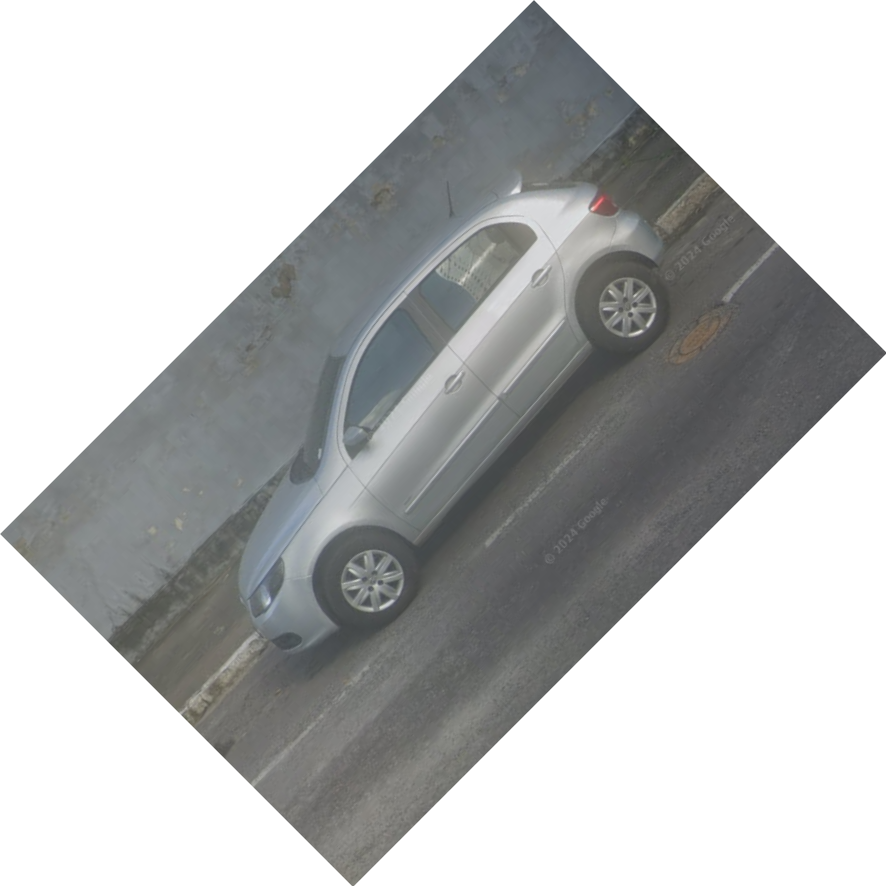car: (235, 166, 669, 657)
